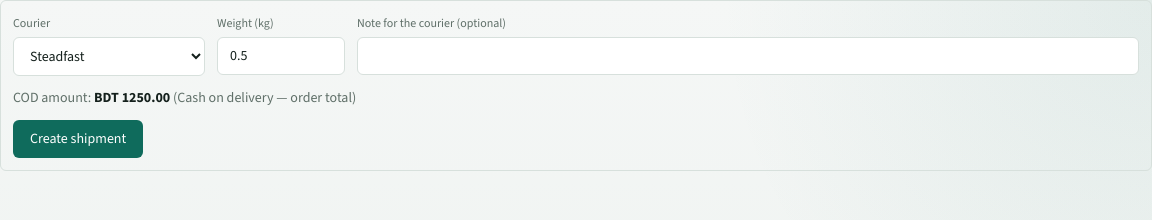
Test: Order → courier booking › shows the server error (e.g. duplicate) and refreshes the order
Click the button "Create shipment" at (78, 139), box [13, 120, 143, 158]
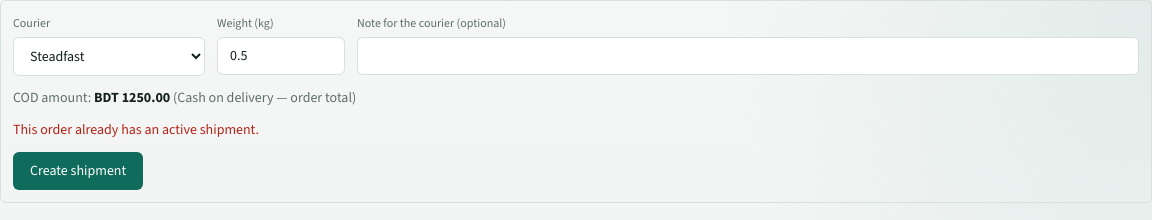
Expected: the message shows "already has an active shipment", [13, 120, 259, 139]
